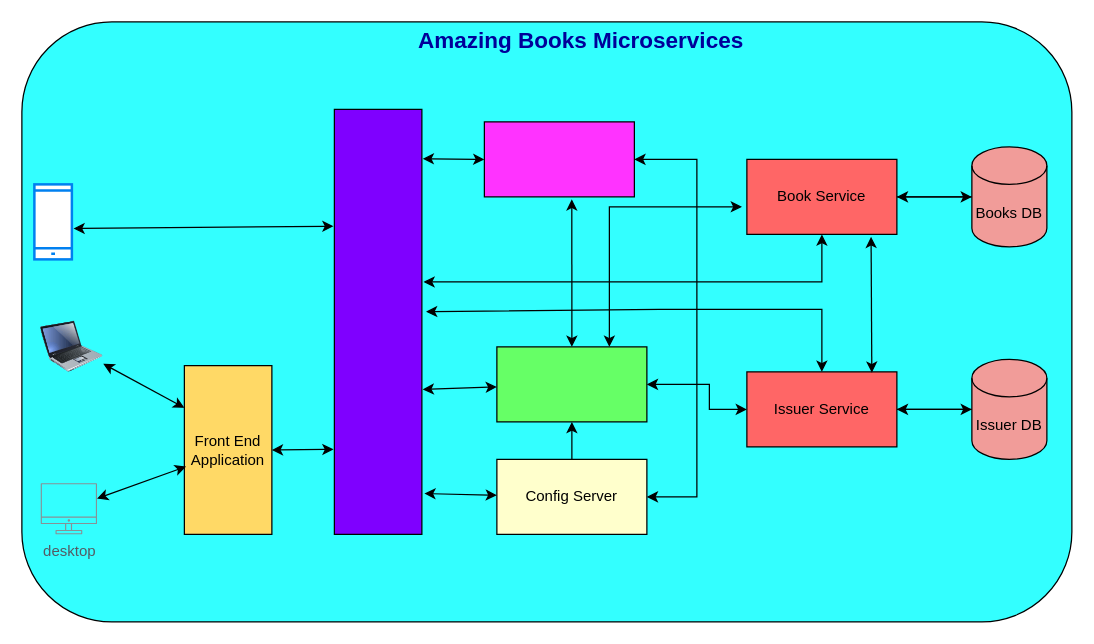
Image size: 1094x644. Some labels were removed from this diagram. The shapes that lost their labels are listed below. From the top down, each one's box as (x1, y1, x2, y2) in pixels, then its label:
(483, 121, 634, 197): Service Registry
(333, 108, 422, 534): API Gateway
(496, 346, 647, 422): Oauth Server
